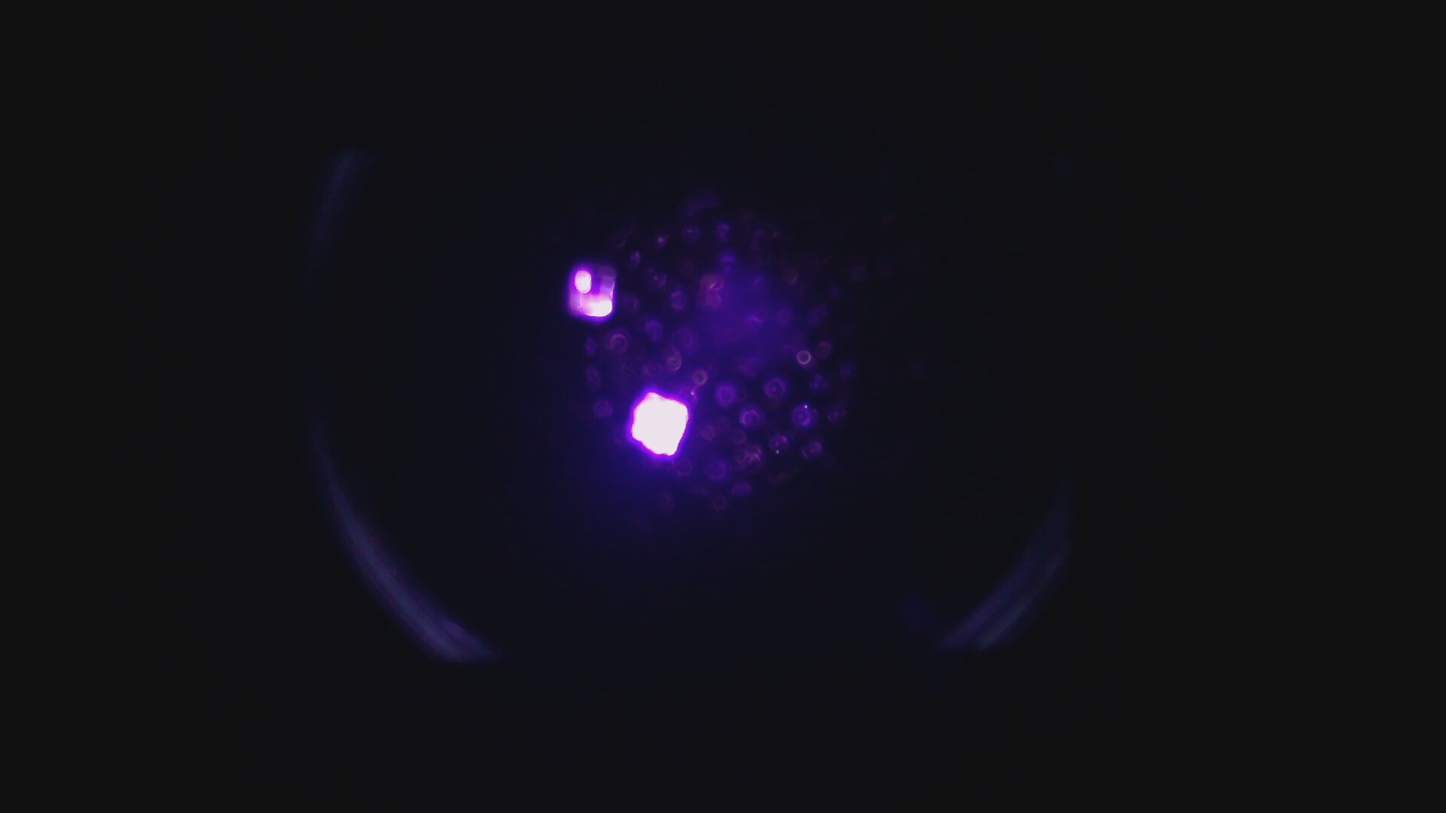plastic: (620, 383, 699, 463), (563, 258, 620, 324)
